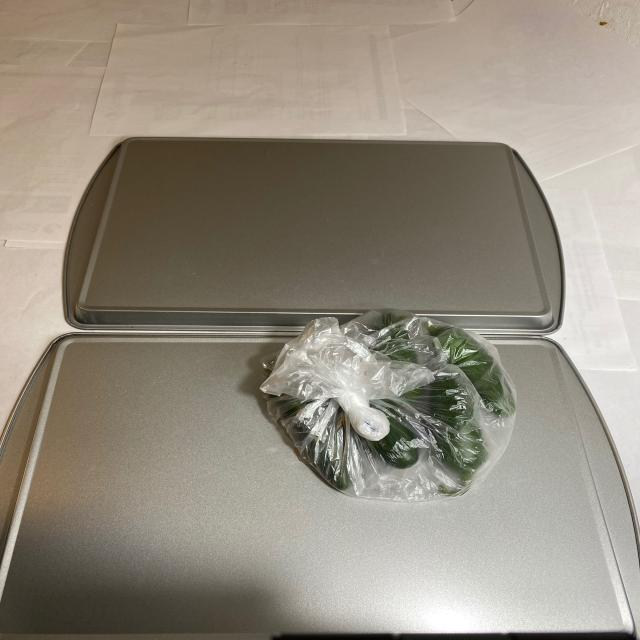chilli: (271, 311, 521, 496)
